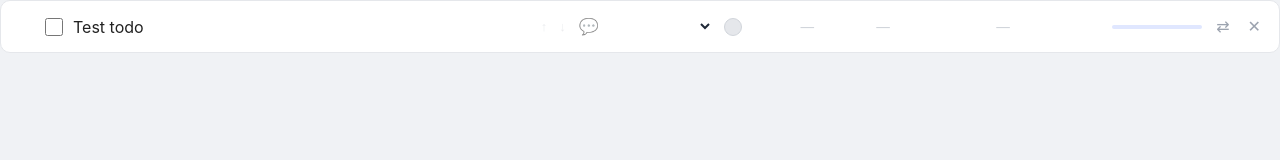
Test case: TodoItem › Date editing › shows a date input when the empty date placeholder is clicked
Click the element with class "due-badge--empty": (1157, 26) left=1112, top=24, right=1202, bottom=28
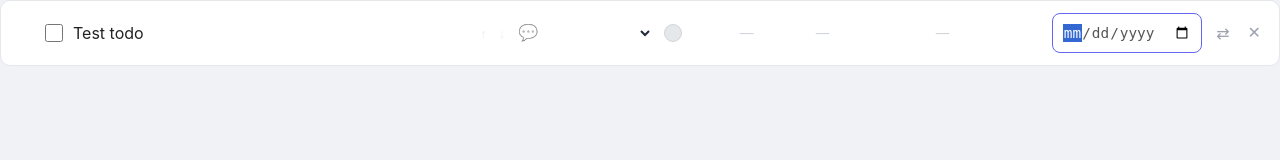
Result: the date field is shown at left=1052, top=13, right=1202, bottom=53
